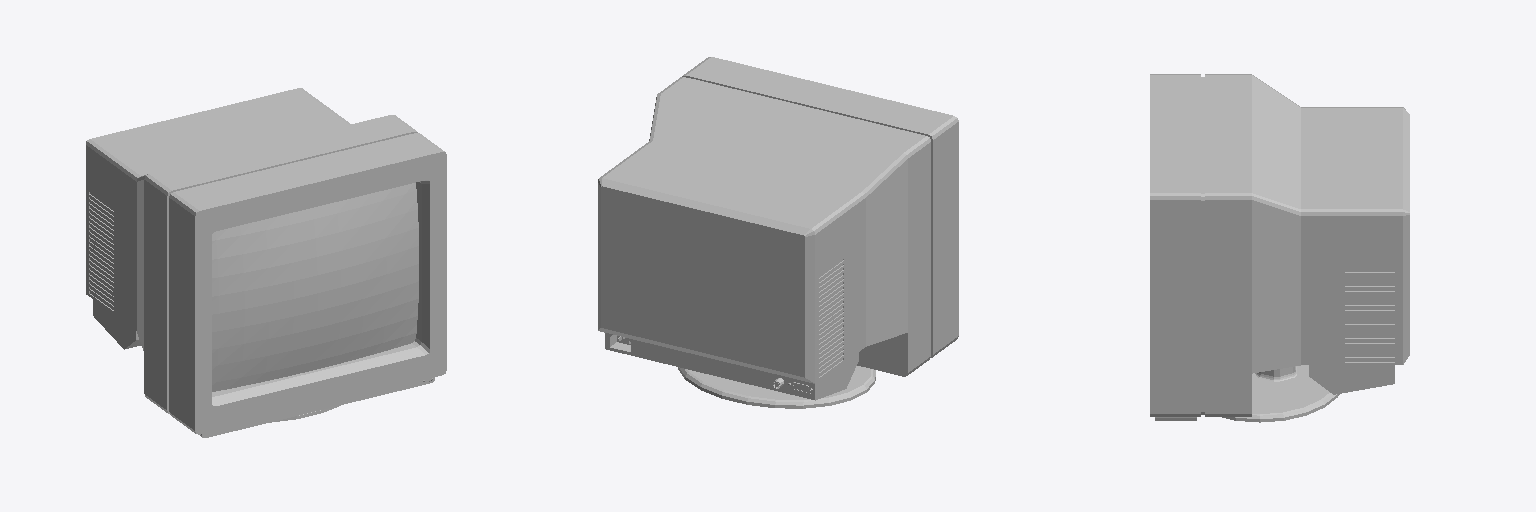
Rendered from monitor_0.obj.
3 views of the same model, side by side, from view 1: azimuth 30°, elevation 25°; view 2: azimuth 150°, elevation 25°; view 3: azimuth 270°, elevation 25° (orthographic).
Parts seen in each view (by area): view 1: Box001__0; view 2: Box001__0; view 3: Box001__0.
Boxes of the visible parts, x1=… form: Box001__0: x1=86, y1=88, x2=446, y2=437; Box001__0: x1=598, y1=57, x2=958, y2=408; Box001__0: x1=1150, y1=74, x2=1409, y2=422.
Bounding box in the file's own units: 83.3 × 77.31 × 74.6.